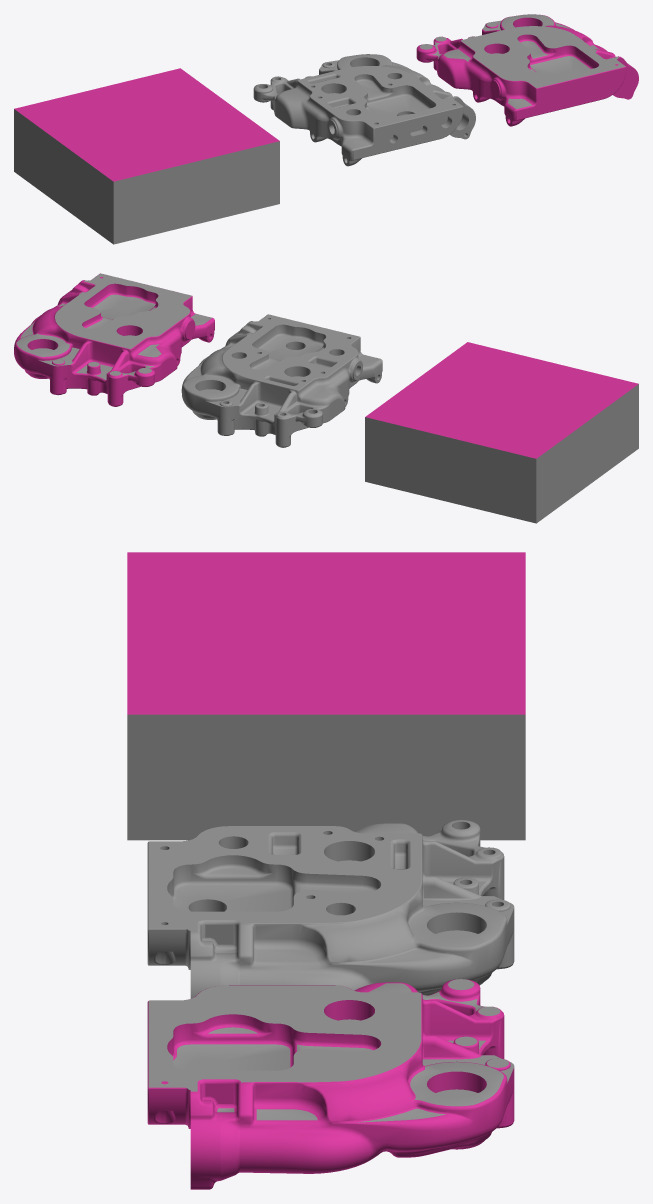
Rendered from HSM.FBX.
3 views of the same model, one above another, from view 1: azimuth 30°, elevation 25°; view 2: azimuth 150°, elevation 25°; view 3: azimuth 270°, elevation 25° (orthographic). The views are drawn at different scales.
Visible parts, largest first — view 1: Box, 加工工件_後, 加工工件_前; view 2: Box, 加工工件_前, 加工工件_後; view 3: Box, 加工工件_後, 加工工件_前.
Boxes of the visible parts, x1,y1,x2,y2 form: Box: [14, 68, 279, 244]; 加工工件_後: [416, 14, 638, 126]; 加工工件_前: [253, 54, 475, 166]; Box: [365, 342, 638, 523]; 加工工件_前: [181, 314, 382, 447]; 加工工件_後: [14, 273, 214, 406]; Box: [127, 552, 525, 840]; 加工工件_後: [147, 979, 514, 1189]; 加工工件_前: [147, 820, 514, 998].
Size of the model in its own units: 146 by 46.39 by 16.16.
